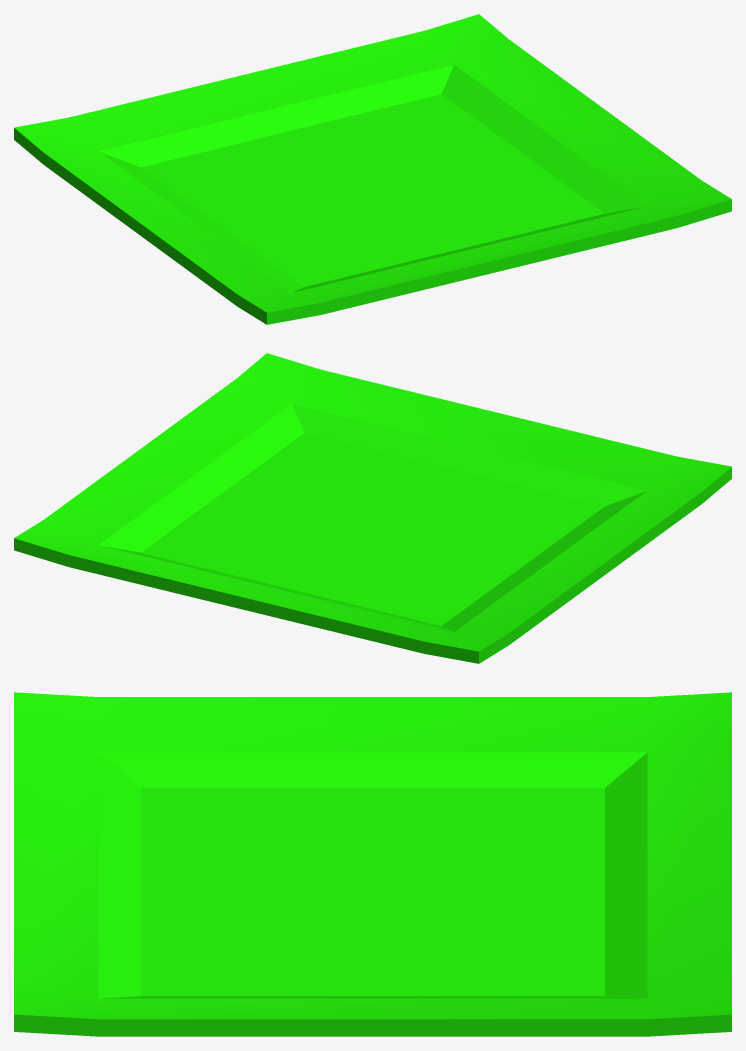
The model's file is umgebung_teller_low.FBX.
3 views of the same model, one above another, from view 1: azimuth 30°, elevation 25°; view 2: azimuth 150°, elevation 25°; view 3: azimuth 270°, elevation 25° (orthographic). The views are drawn at different scales.
Parts seen in each view (by area): view 1: o_teller_low; view 2: o_teller_low; view 3: o_teller_low.
Part boxes in pixels (x1=…): o_teller_low: x1=14, y1=14, x2=731, y2=324; o_teller_low: x1=14, y1=353, x2=731, y2=663; o_teller_low: x1=14, y1=692, x2=731, y2=1036.
Bounding box in the file's own units: 65.75 × 61.92 × 5.31.
